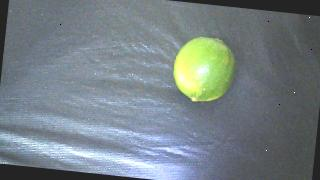LOCAL: (170, 35, 237, 106)
